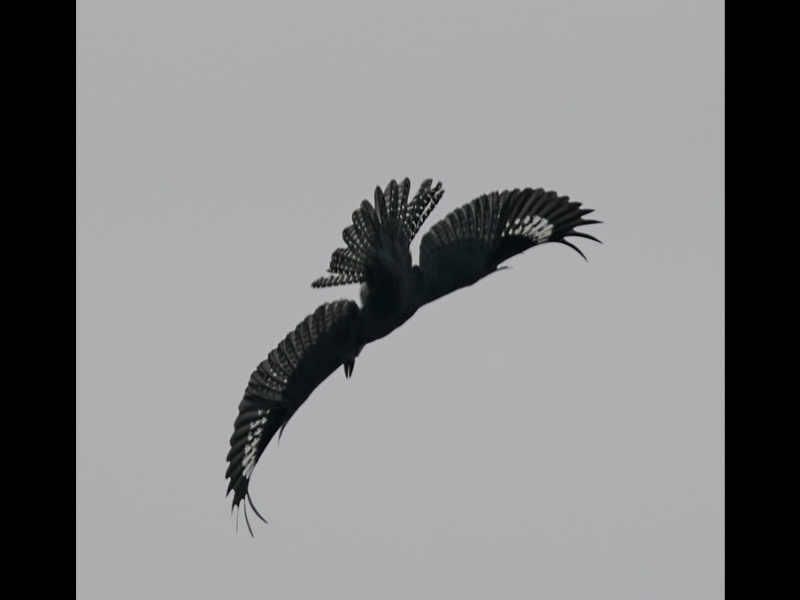kingfisher: (224, 175, 604, 541)
